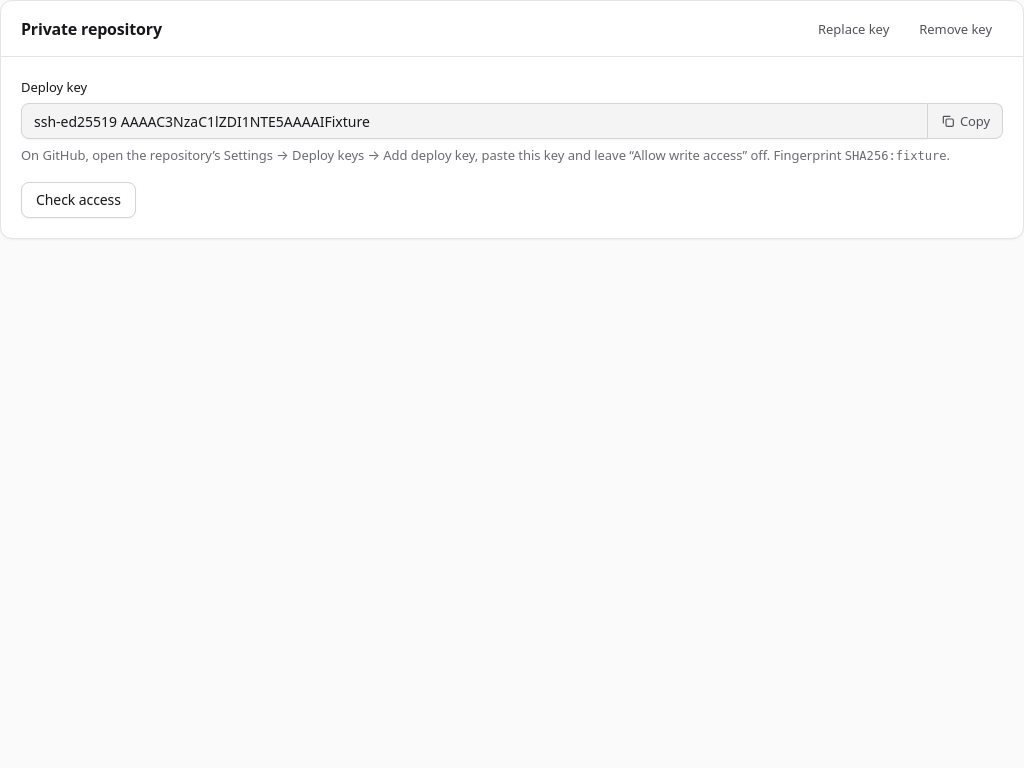
private repository access › removes a key only after confirming, then offers a new one
The width and height of the screenshot is (1024, 768).
Click the button "Remove key".
click(956, 29)  # box [908,13,1003,45]
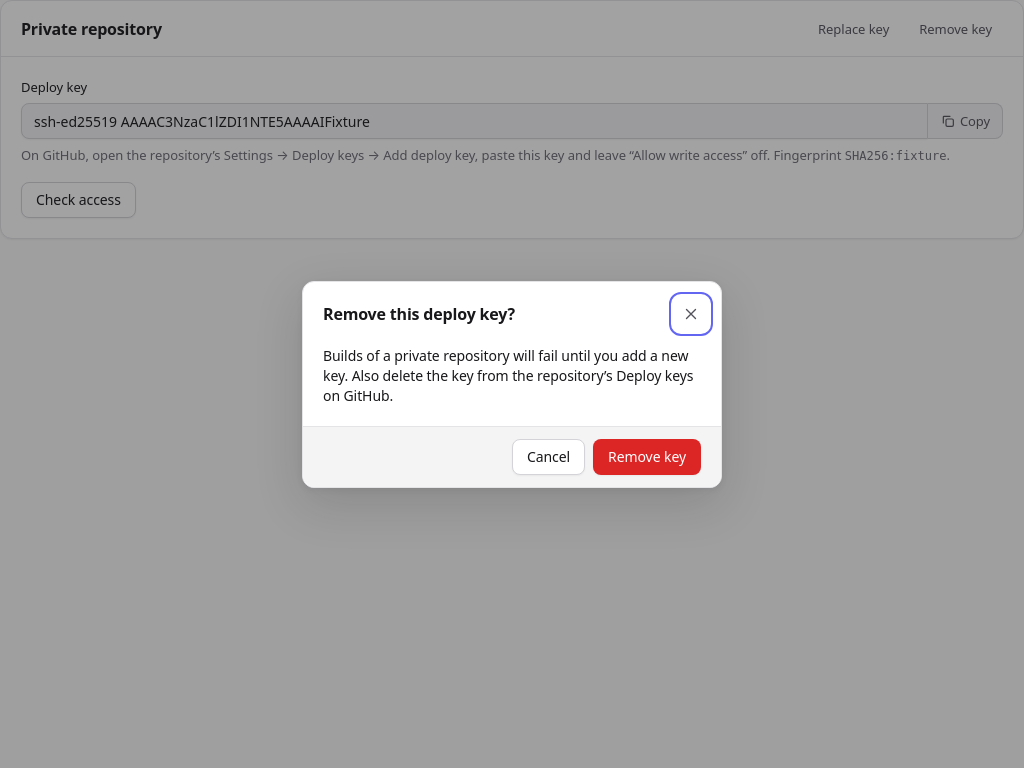
Expected: the text "Builds of a private repository will fail until you add a new key. Also delete the key from the repository’s Deploy keys " is shown, [323,346,694,404]
Click the button "Remove key".
click(647, 456)  # box [593,438,701,474]
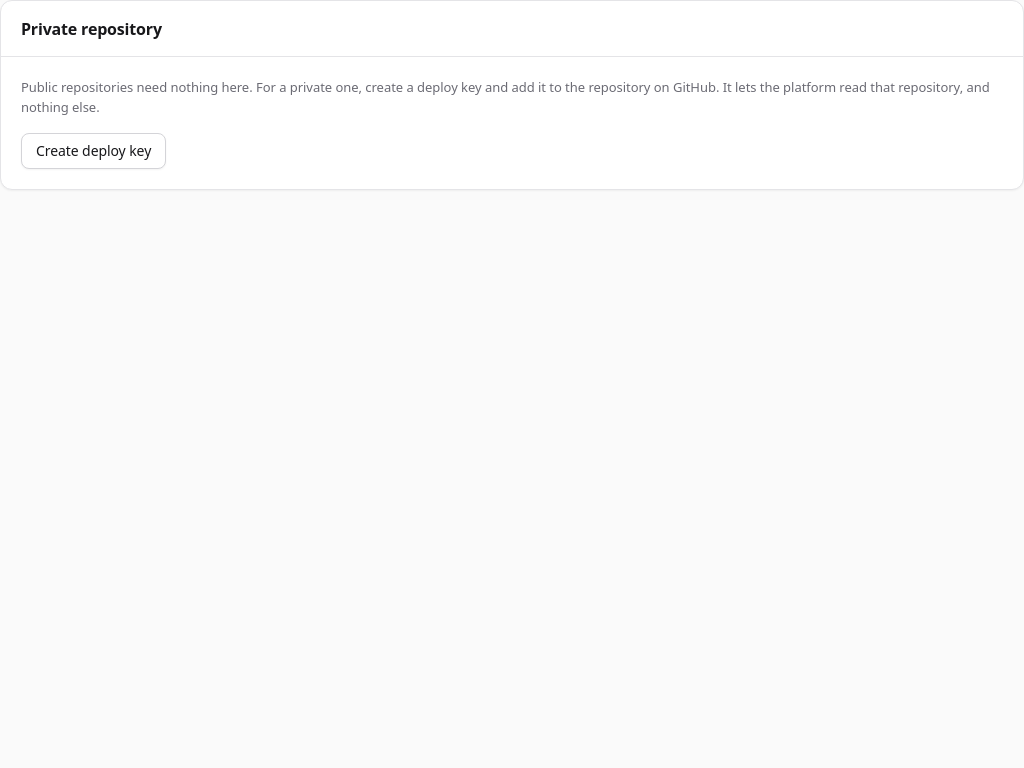
Expected: the button "Create deploy key" is shown, [21,133,166,169]
Expected: the dialog is gone
Expected: the button "Remove key" is gone
